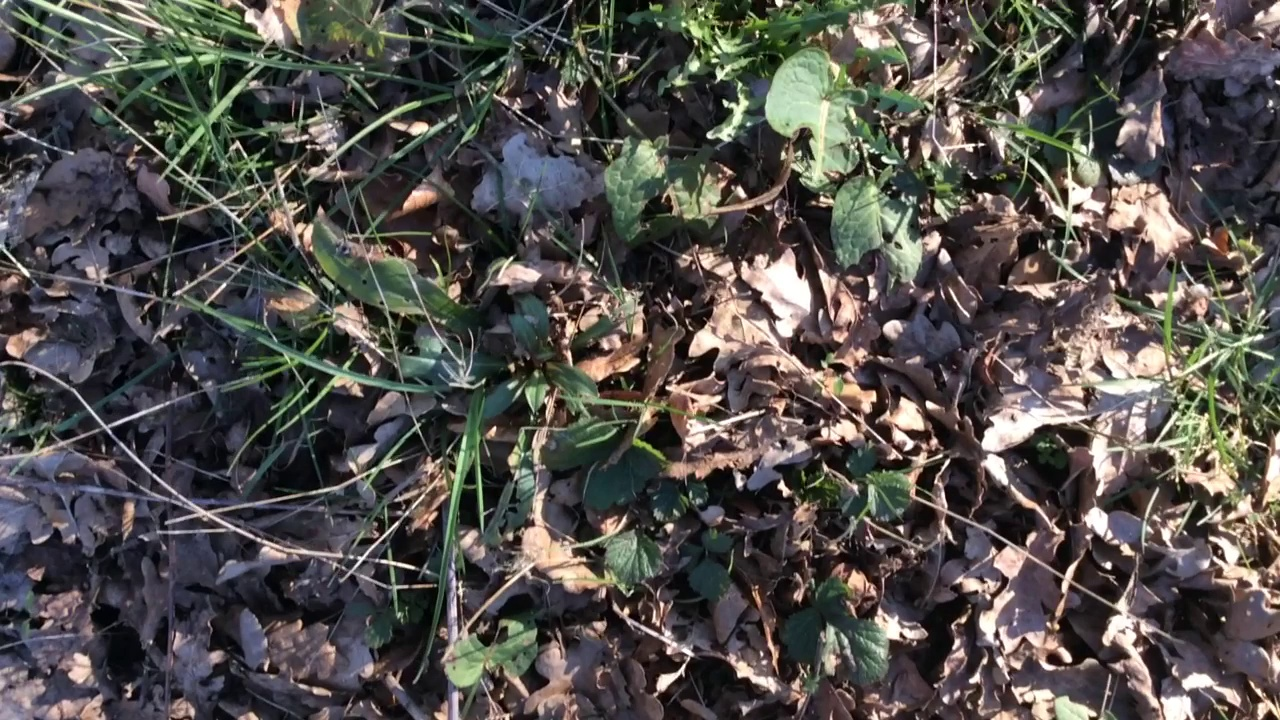rumex: (613, 51, 921, 286)
